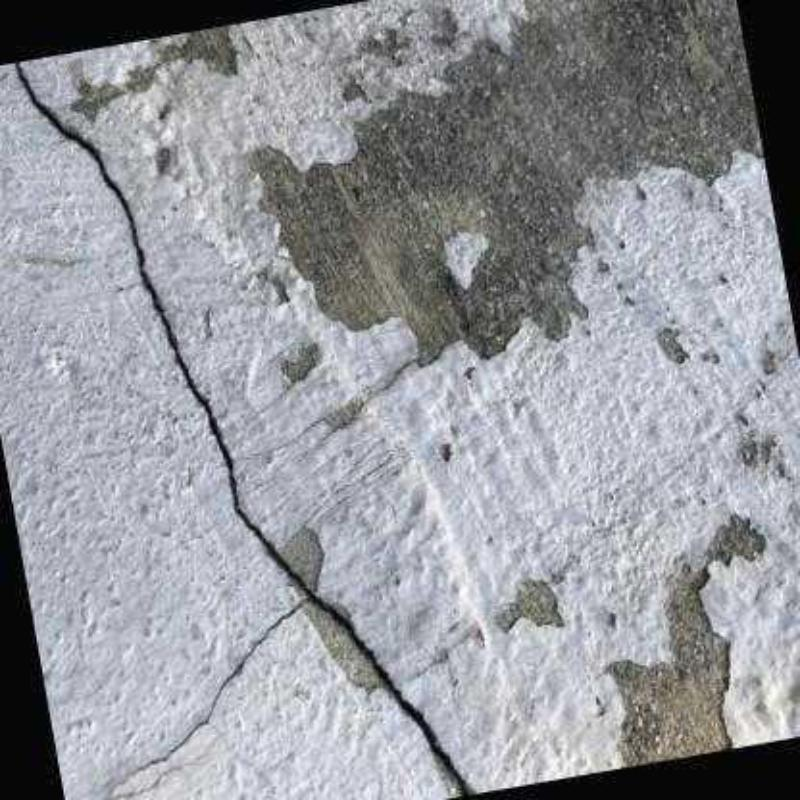crack: (6, 60, 478, 800)
